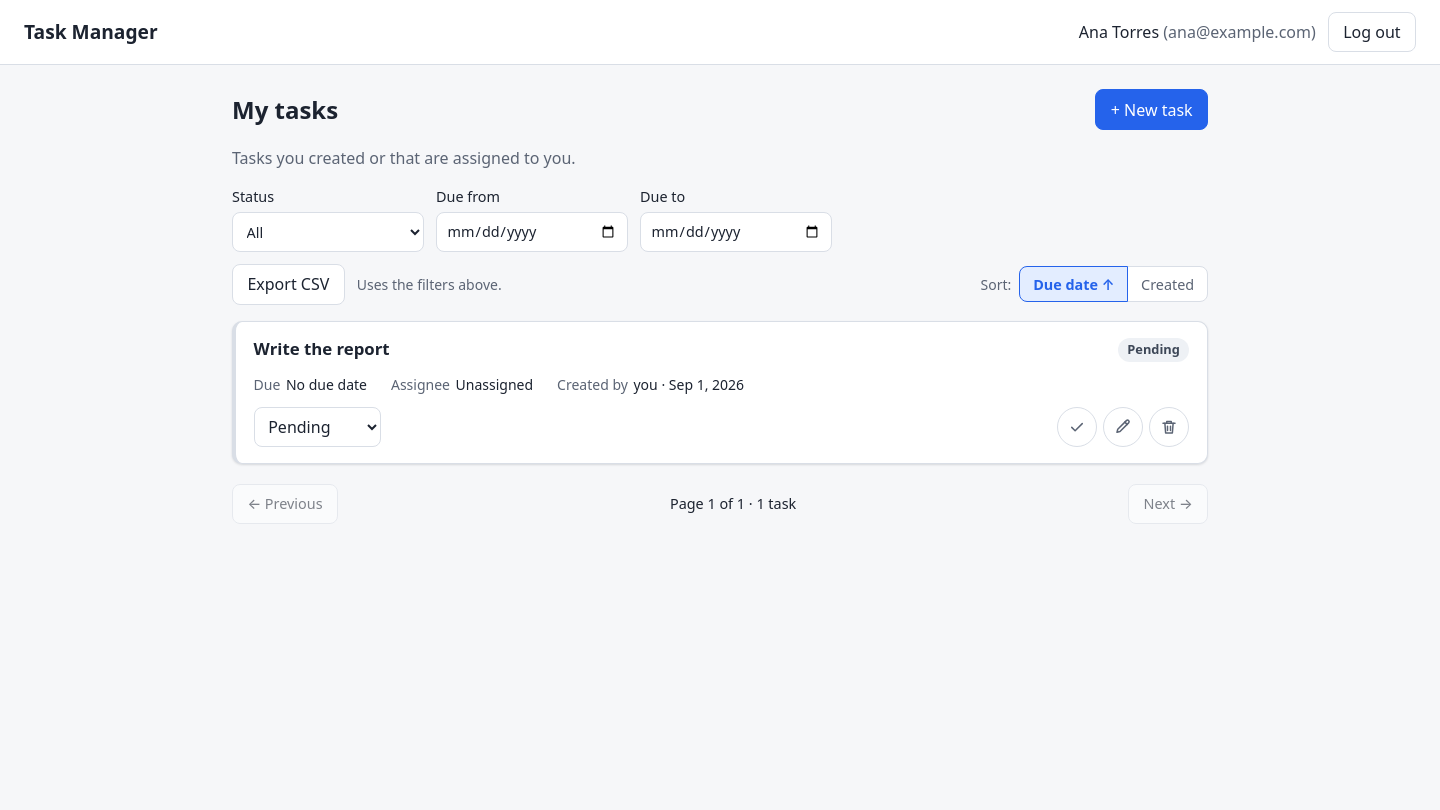
late delete › a delete finishing after its dialog was cancelled does not close a new one
This screenshot has width=1440, height=810.
Click the button named "Delete" at (1169, 427), box top-left (1149, 407), bottom-right (1189, 447)
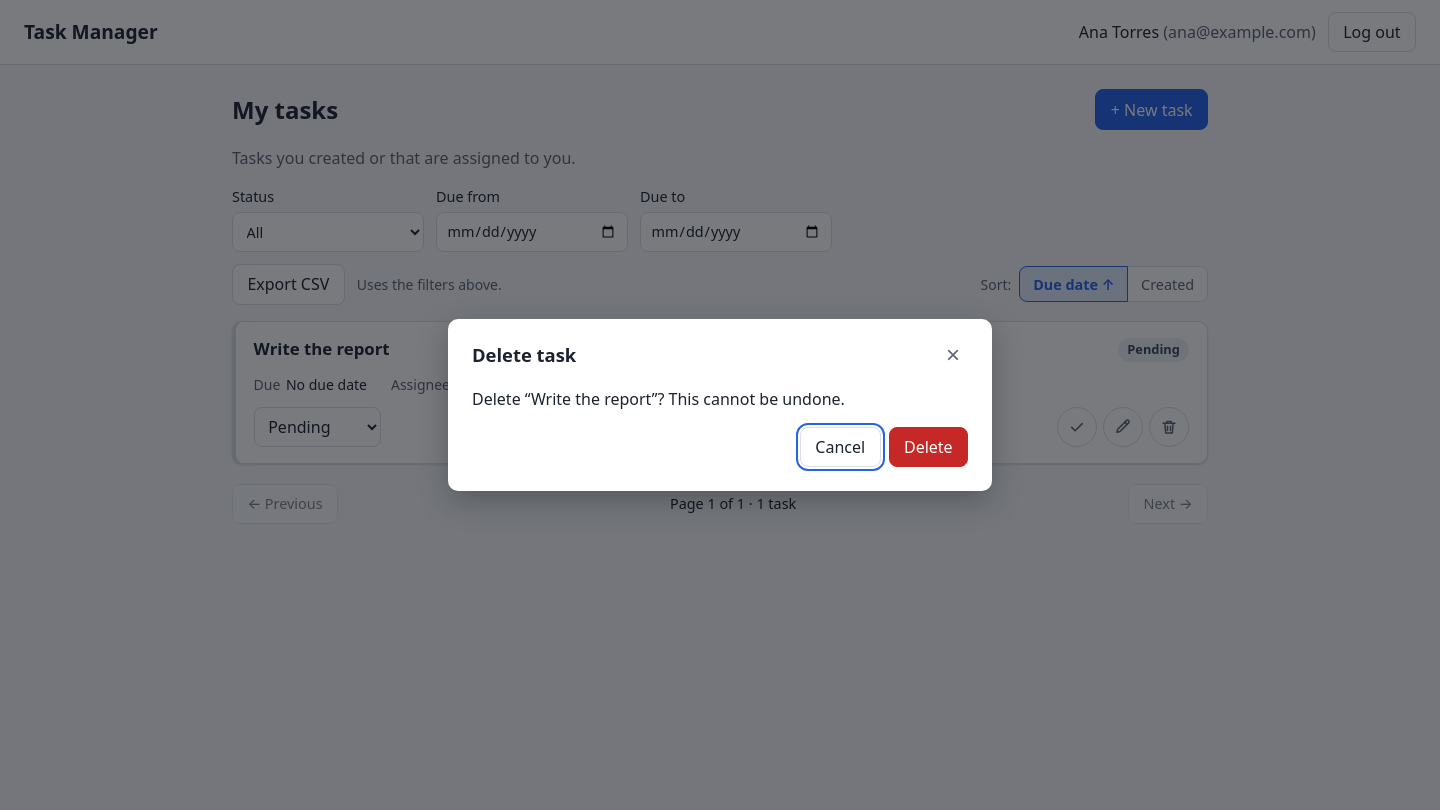
Click the button "Delete" at (928, 447), box top-left (889, 427), bottom-right (968, 467)
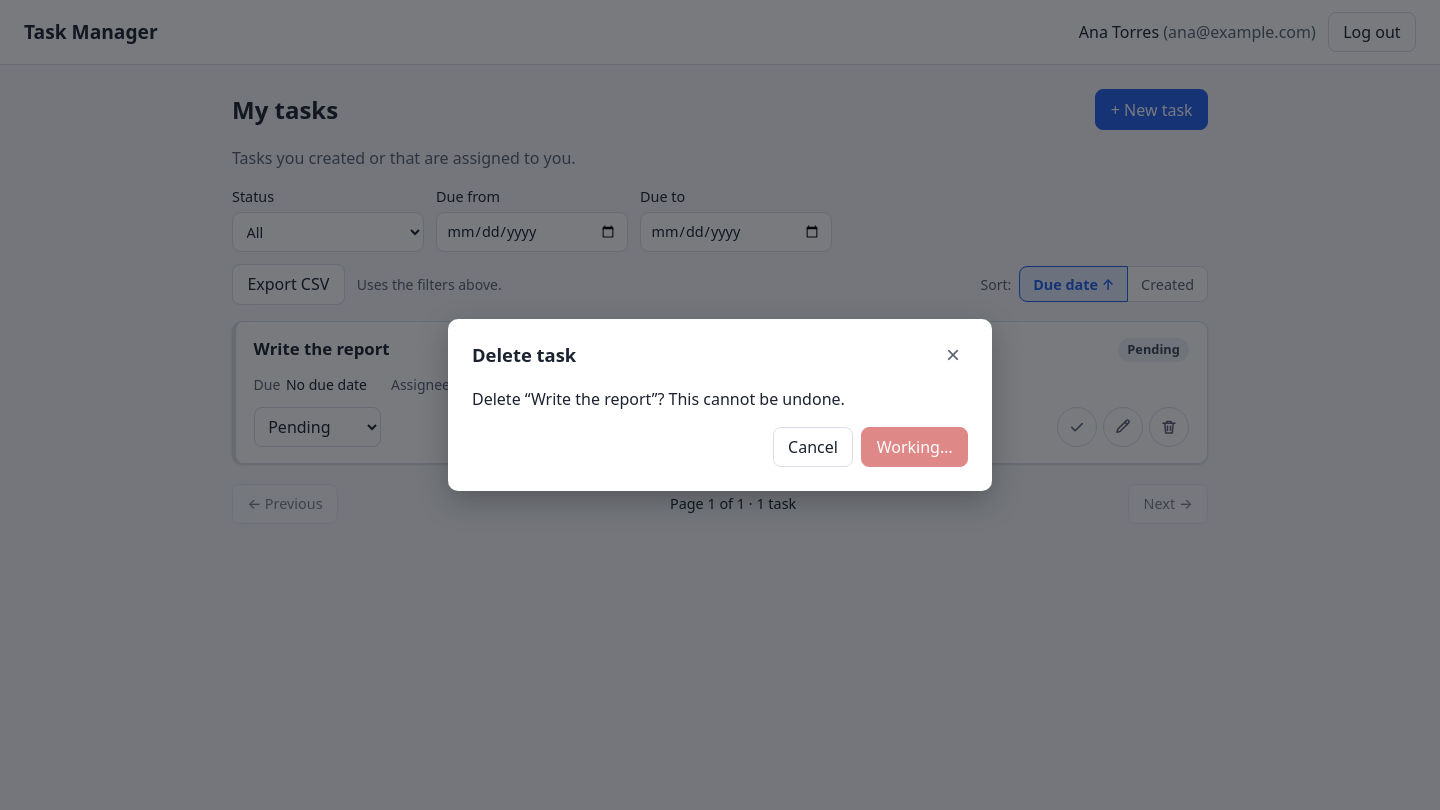
Click the button "Cancel" at (813, 447), box top-left (773, 427), bottom-right (853, 467)
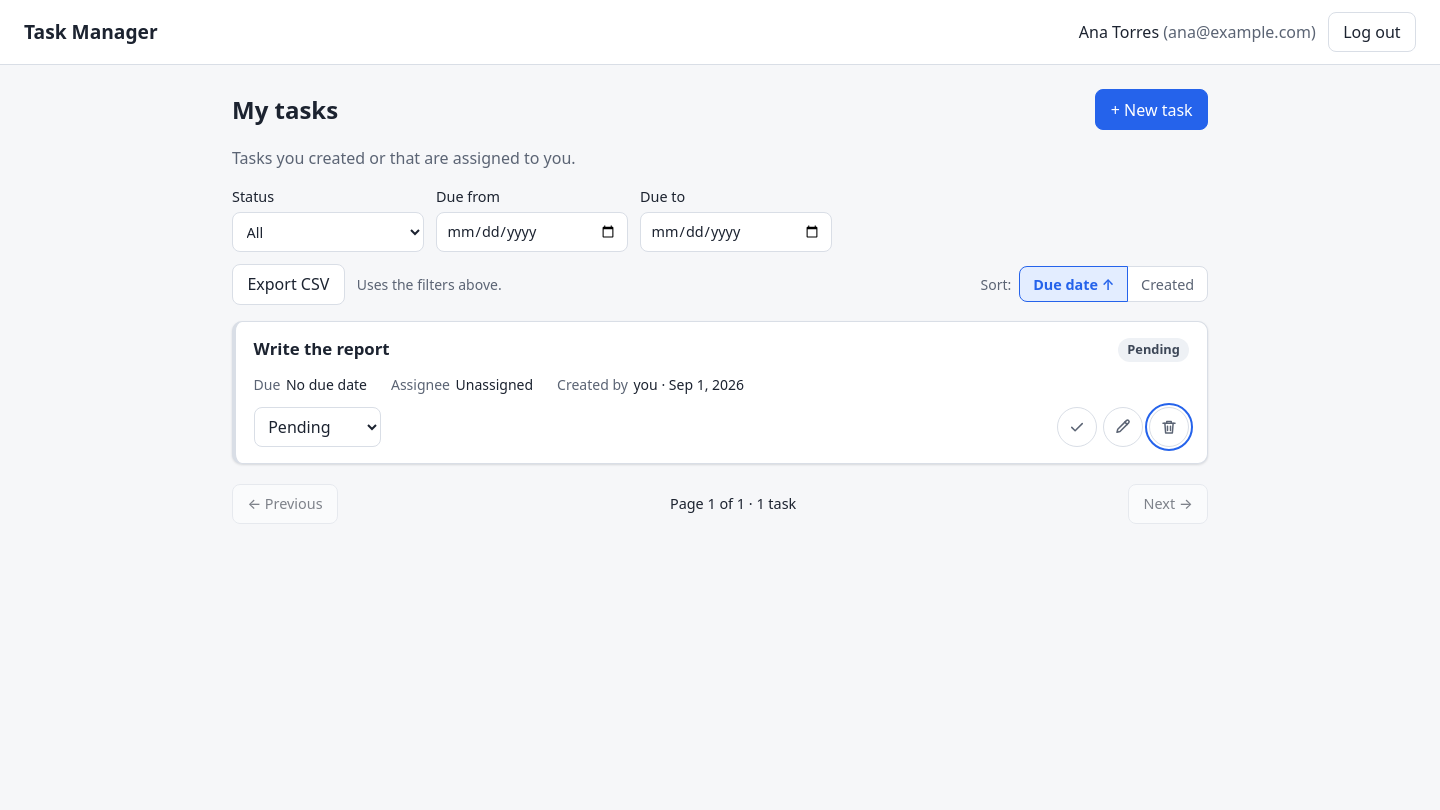
Click the button "+ New task" at (1152, 110), box top-left (1095, 89), bottom-right (1208, 130)
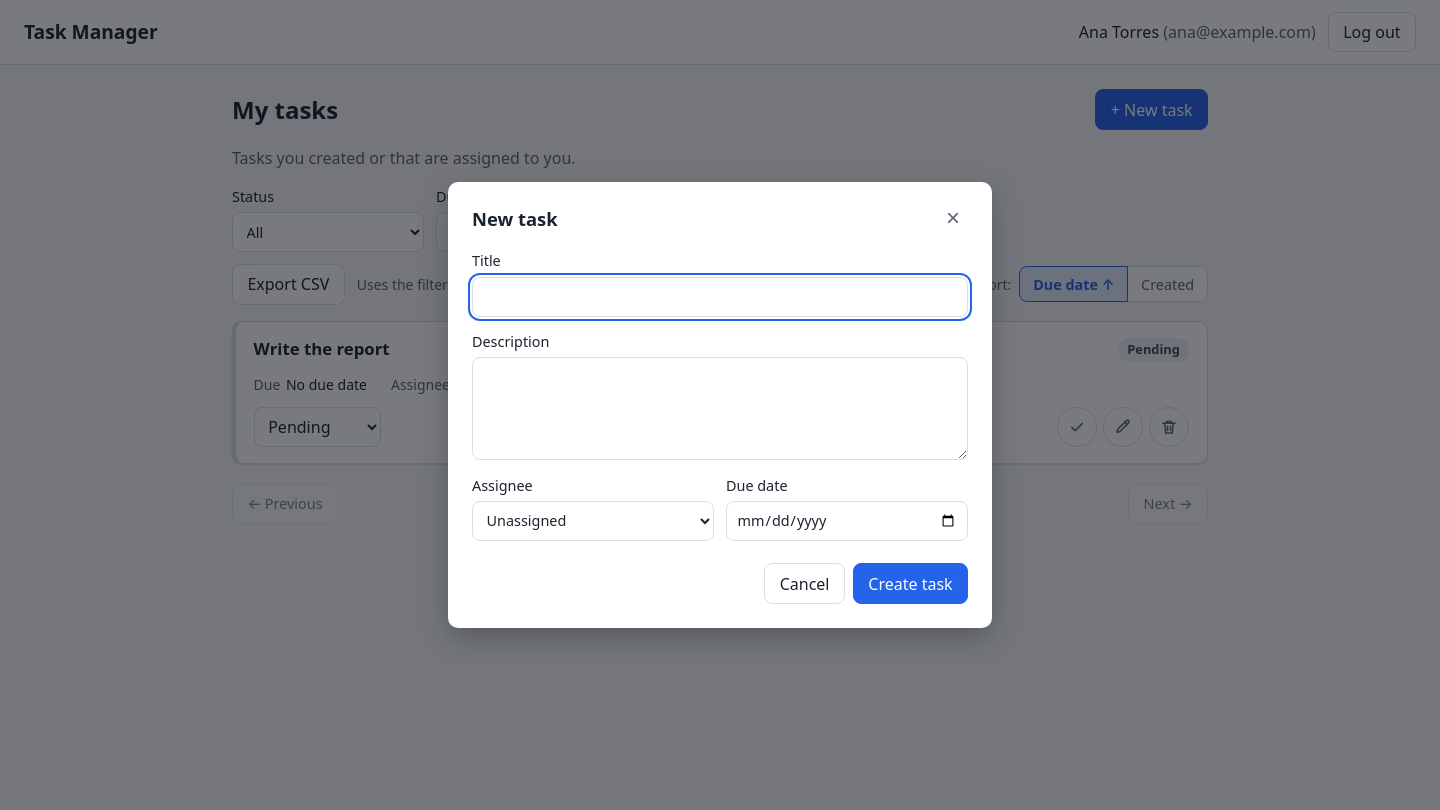
Type "Draft" into the field labelled "Title" at (720, 297), box top-left (472, 277), bottom-right (968, 317)
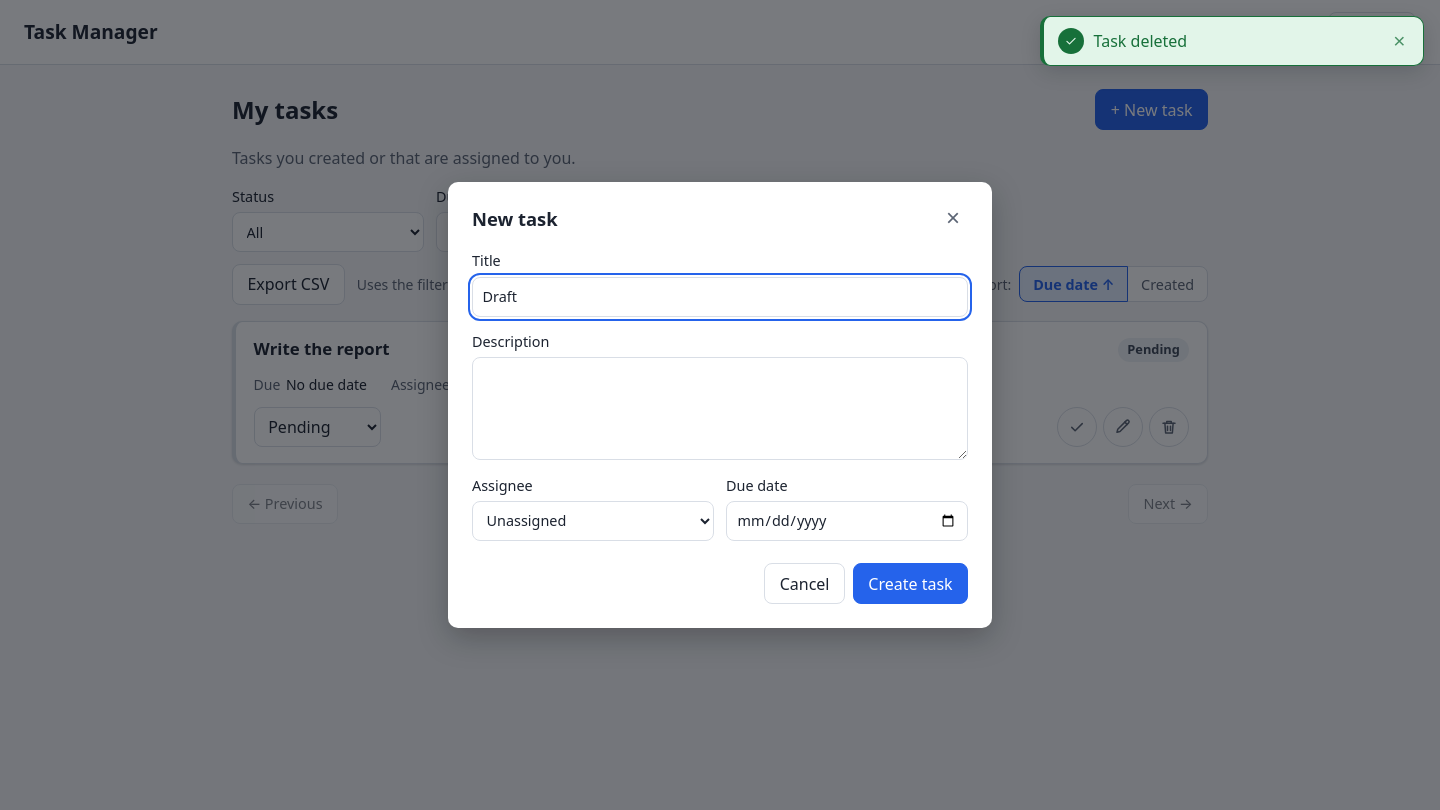
Result: the dialog "New task" is shown at top-left (448, 182), bottom-right (992, 628)
Result: the text "Task deleted" is shown at top-left (1094, 30), bottom-right (1187, 52)
